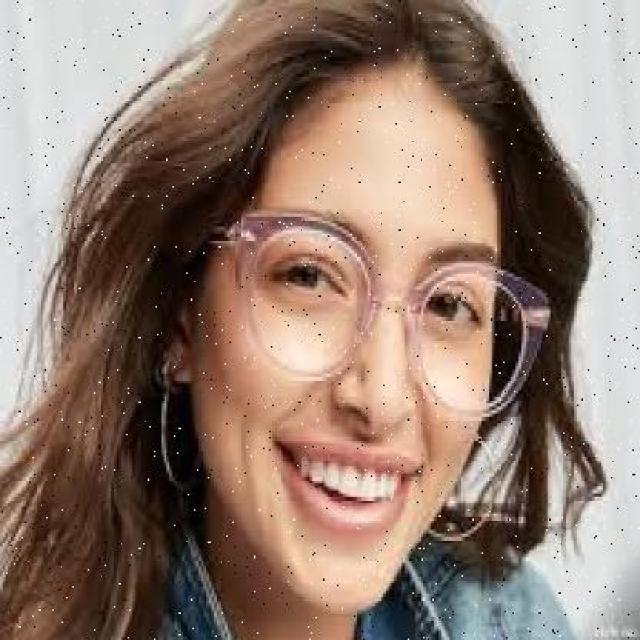mask: (232, 188, 550, 432)
